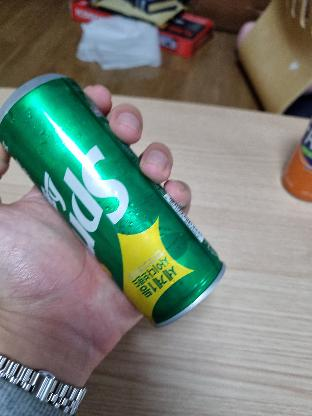Can: (9, 73, 222, 315)
